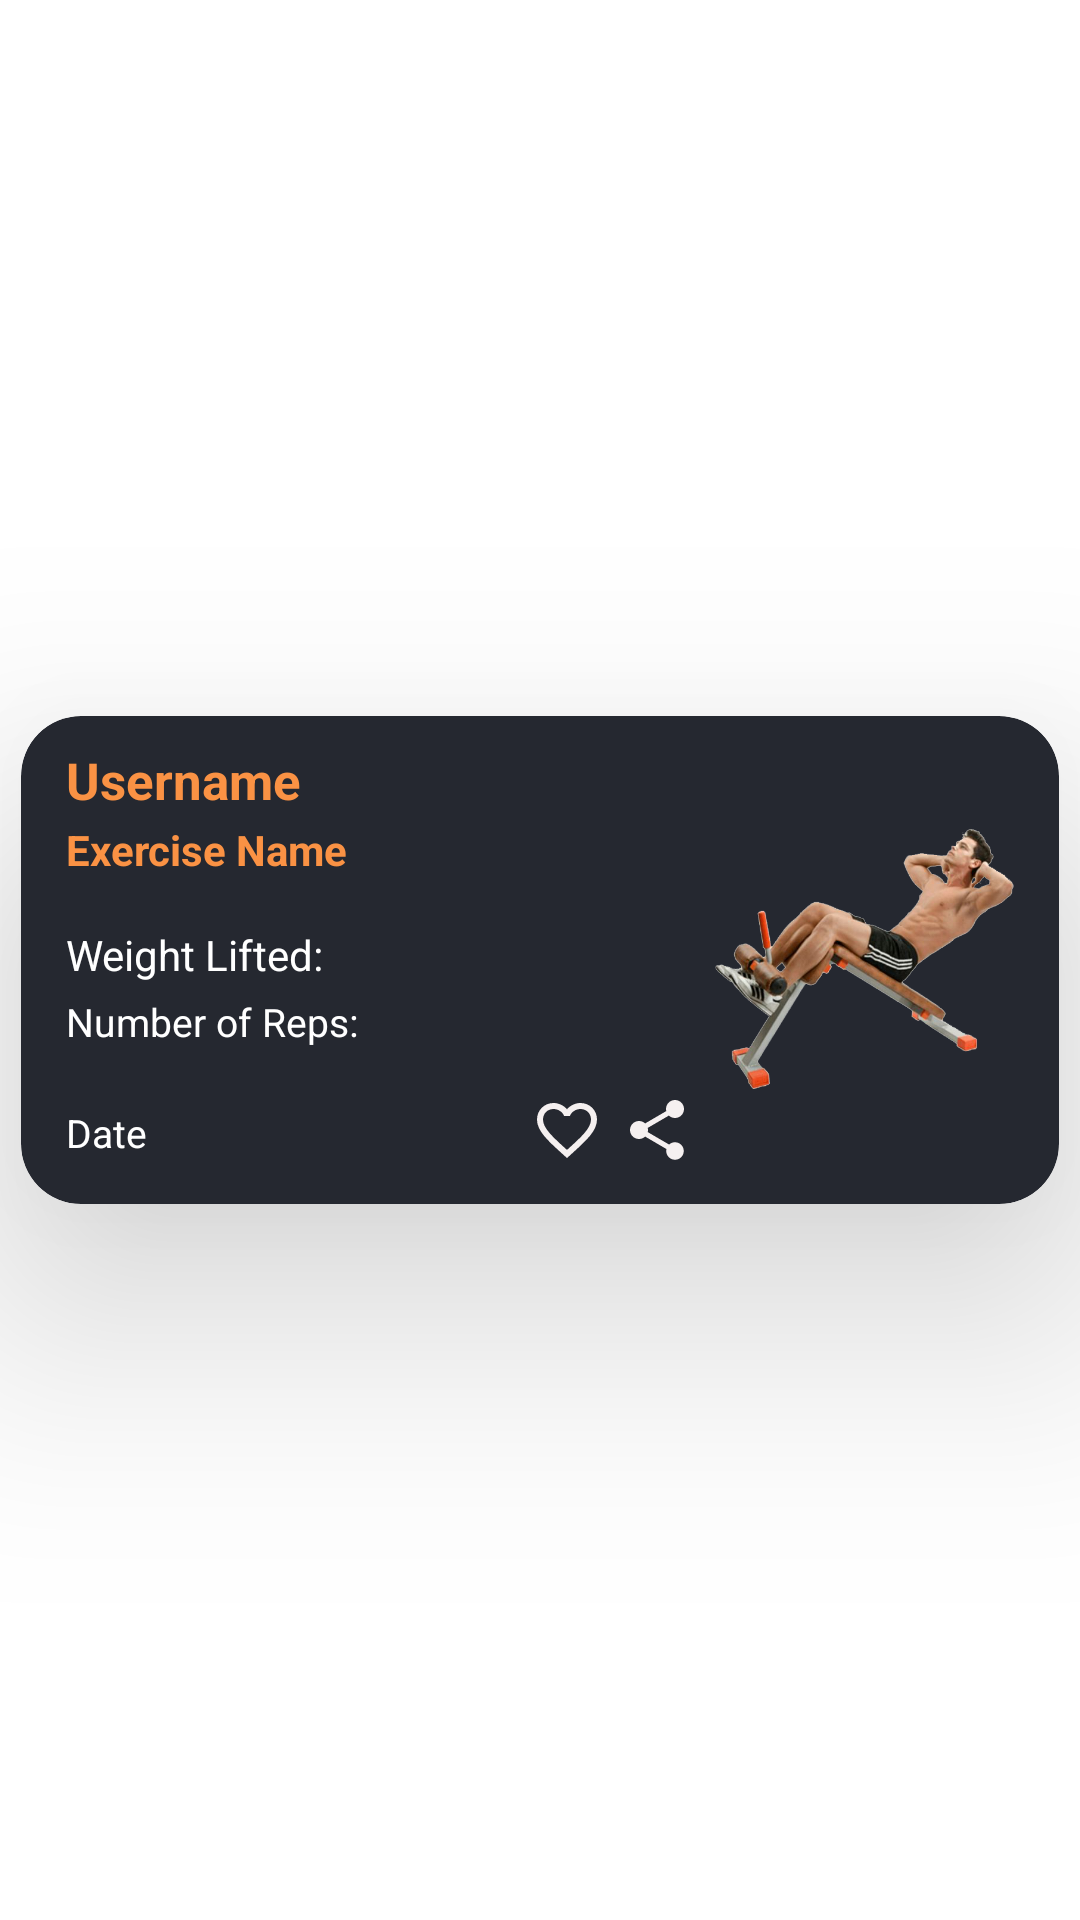

Where to tap for icons on this 1080*1920 app screen, as (x,y):
favorite border: (567,1130)
inclinebenchsitup: (864,959)
share: (657,1130)
